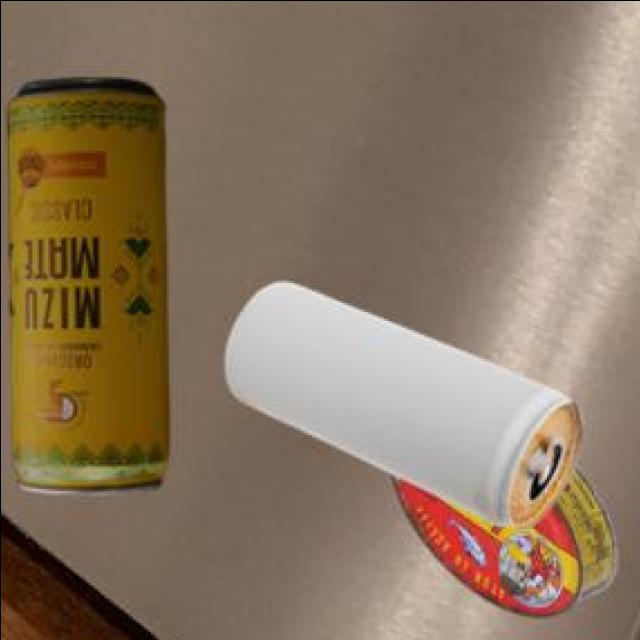logam: (220, 279, 581, 525), (3, 75, 164, 491), (386, 460, 612, 614)
